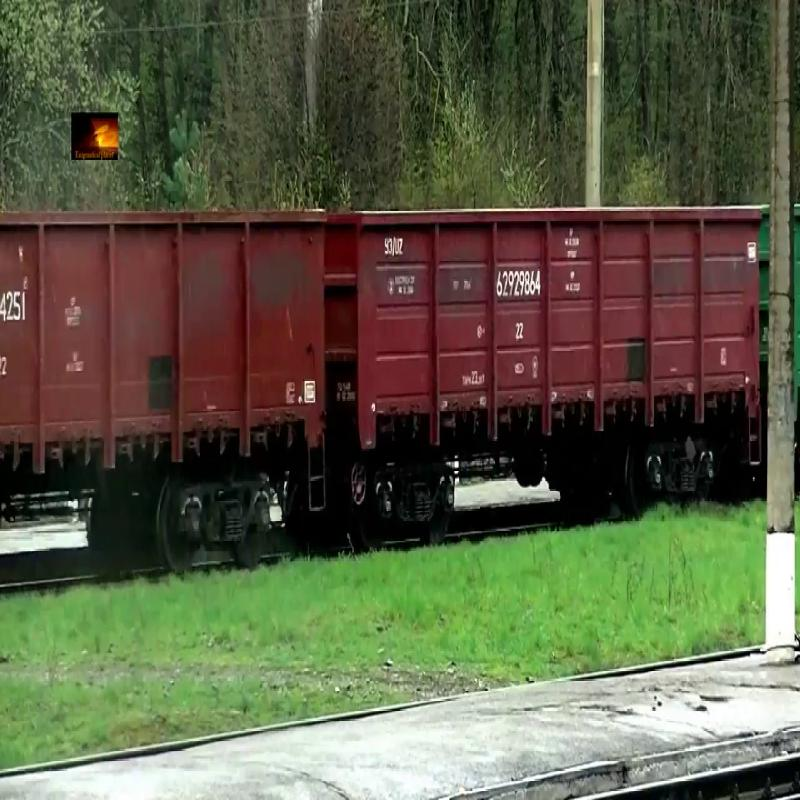train: (326, 207, 762, 449), (1, 206, 325, 471)
